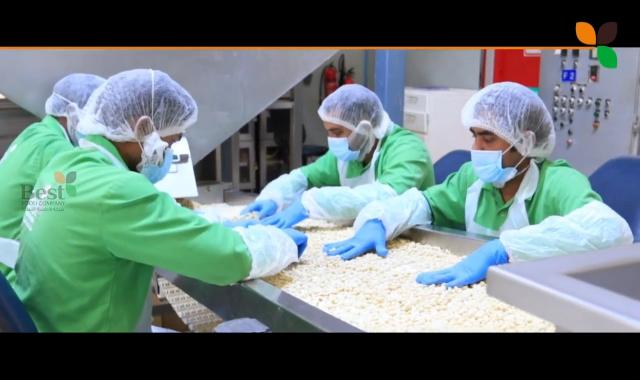hairnet: (79, 72, 203, 145), (462, 84, 556, 160), (316, 88, 386, 146), (44, 71, 100, 117)
